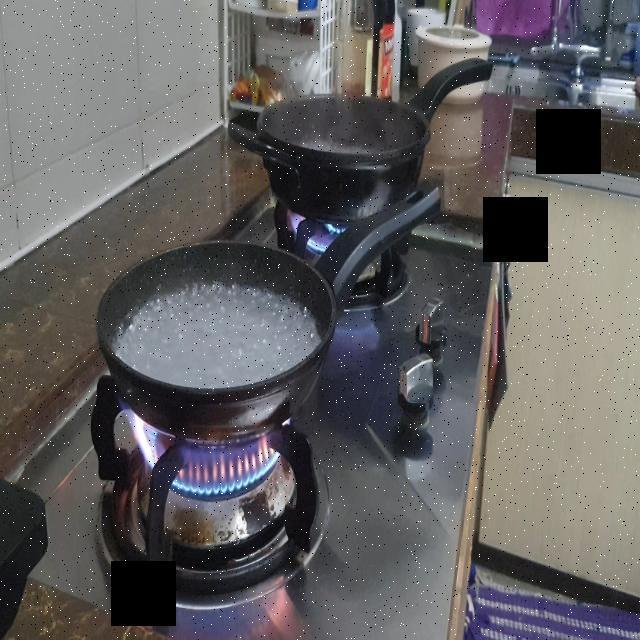Flame: (124, 412, 290, 509), (291, 208, 355, 256)
Pan: (102, 243, 358, 436), (258, 91, 480, 222), (415, 20, 499, 113)
